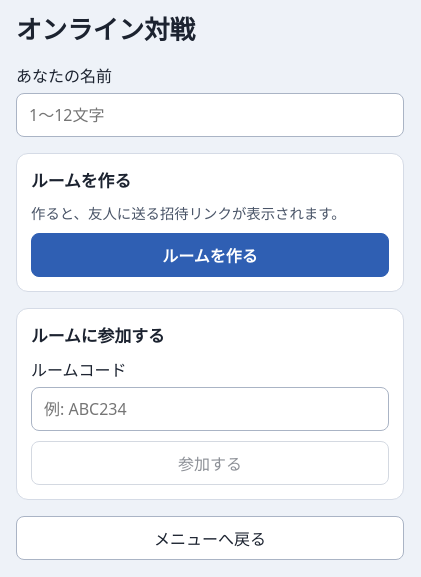
OnlineLobby › コードを入れて、参加する。コードが空の間は、参加できない
Later steps or results of the test are not shown.
Expected: the button "参加する" is disabled, [31, 441, 389, 485]
Type "ゆう" into the field labelled "あなたの名前" at (210, 115), box [16, 93, 404, 137]
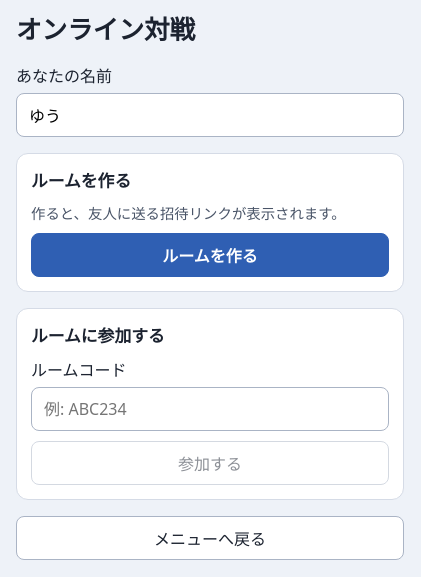
Type "abc234" into the field labelled "ルームコード" at (210, 409), box [31, 387, 389, 431]
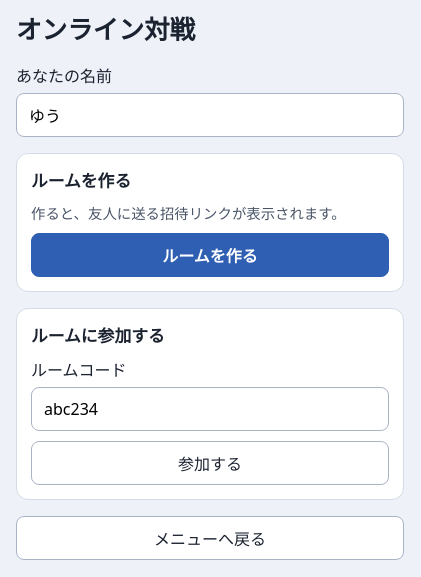
Expected: the button "参加する" is enabled, [31, 441, 389, 485]
